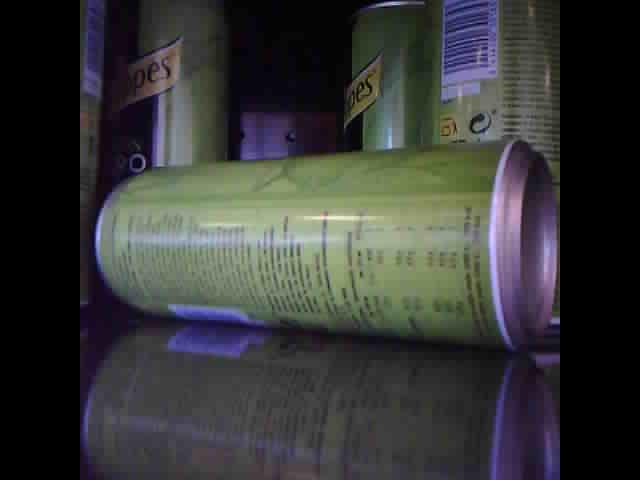schweppes: (89, 130, 558, 351), (427, 1, 559, 238), (114, 1, 222, 175), (338, 1, 421, 155)
